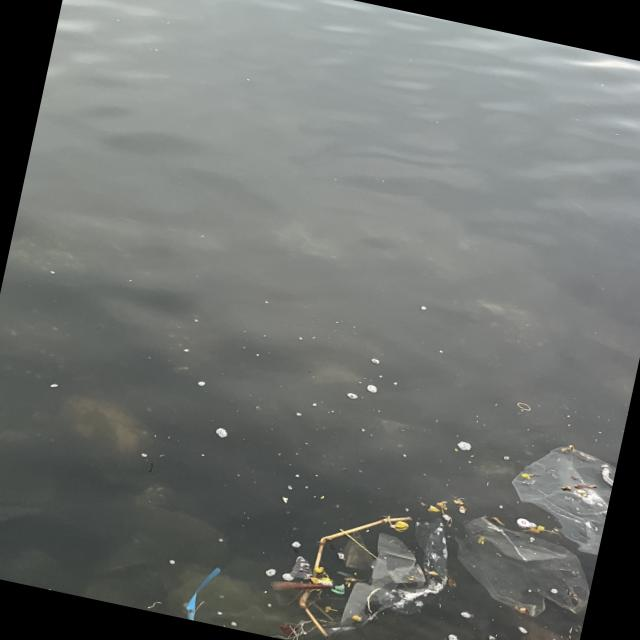plastic bottle: (0, 334, 85, 435)
